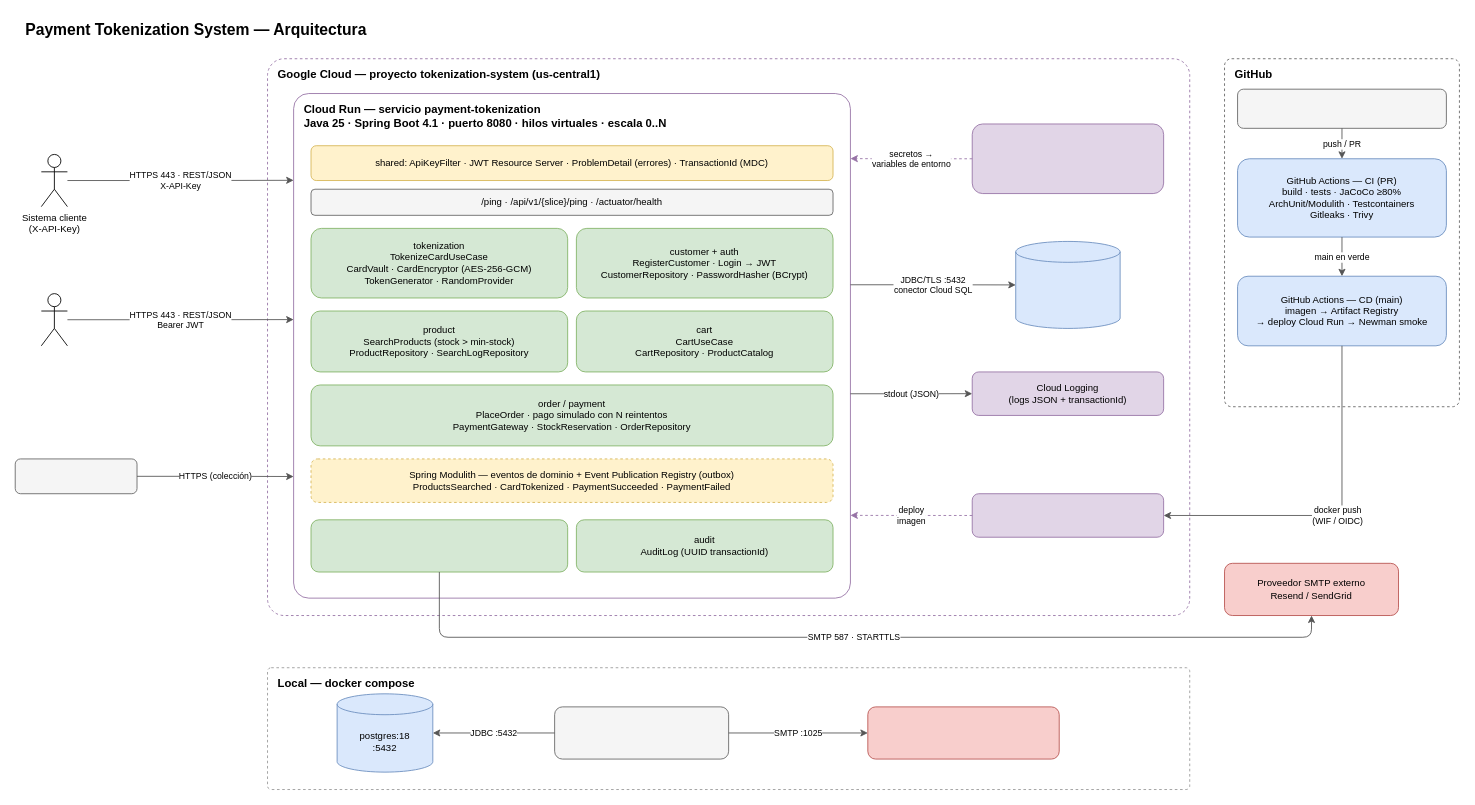
Some shapes in this 1475 by 805 pixel diagram are drawn without their labels. The shapes that lost their labels are listed below. From the top down, each one's centre as x and y in pixels, then its label:
At pixel 1341 108: "Repo privado AndyNeri/payment-tokenization-system".
At pixel 1067 158: "Secret Manager DB pwd · API_KEY · JWT_SECRET CARD_ENCRYPTION_KEY · SMTP".
At pixel 1067 284: "Cloud SQL PostgreSQL 18 (Flyway)".
At pixel 53 319: "Cliente (JWT)".
At pixel 75 476: "Postman / Newman".
At pixel 1067 515: "Artifact Registry (imágenes Docker)".
At pixel 439 545: "notification EmailSender → SMTP".
At pixel 641 732: "app (Spring Boot) :8080".
At pixel 963 732: "mailpit SMTP :1025 · UI :8025".
